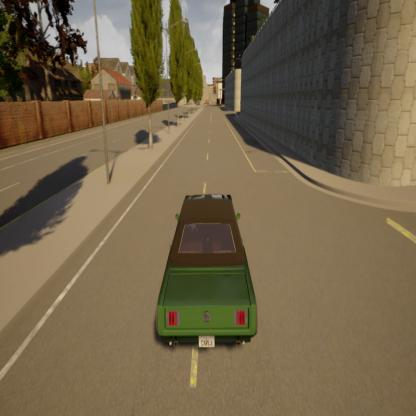Cars: (145, 184, 266, 360)
